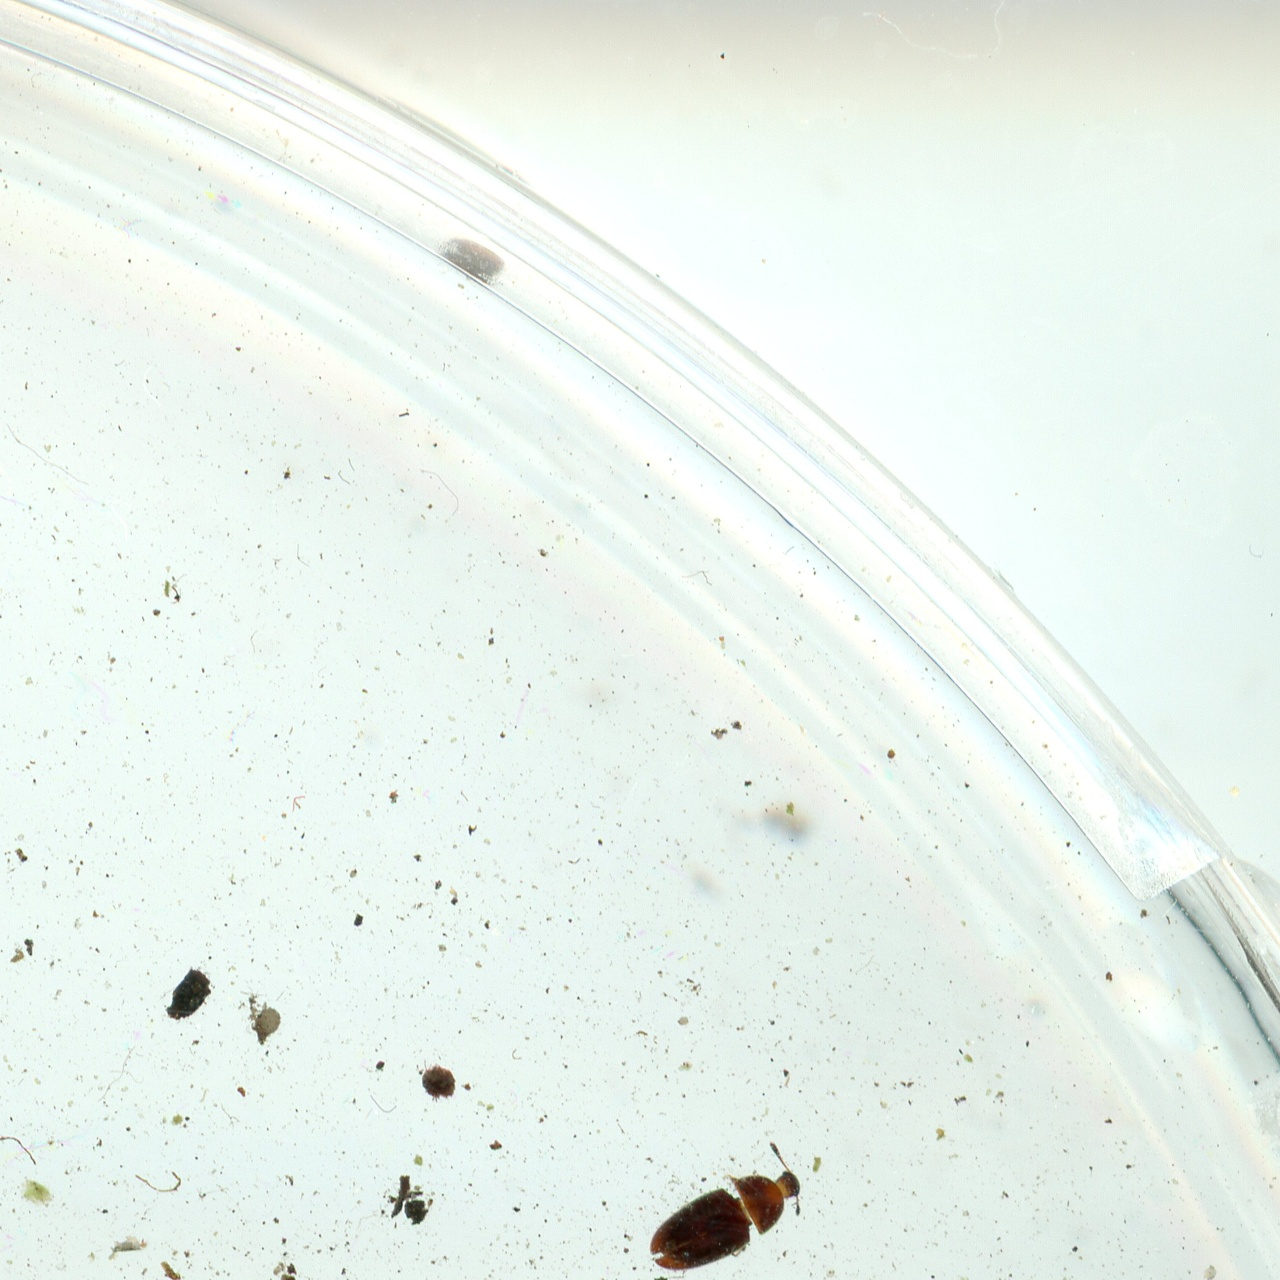arthropod: (623, 1132, 822, 1280), (649, 1142, 803, 1271)
